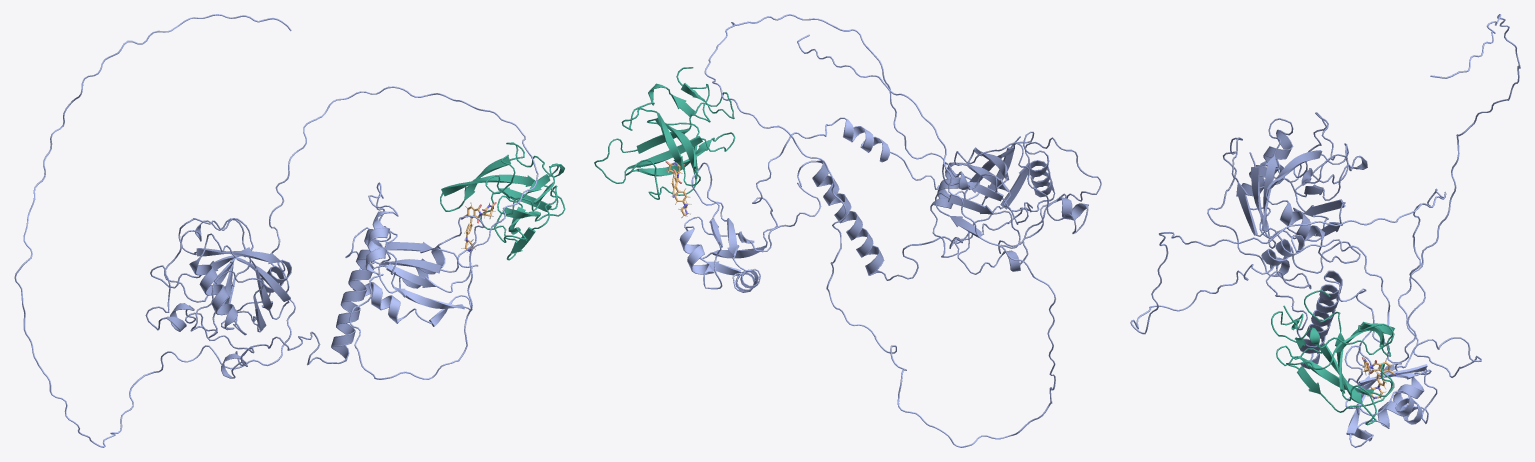
3 renders of one model, left to right at view 1: azimuth 30°, elevation 25°; view 2: azimuth 150°, elevation 25°; view 3: azimuth 270°, elevation 25°, orthographic. The views are drawn at different scales.
Visible parts, largest first — view 1: node-geom96, node-geom97; view 2: node-geom96, node-geom97; view 3: node-geom96, node-geom97.
Part boxes in pixels (box(x1,y1,x2,y2)): node-geom96: box(145, 142, 565, 378); node-geom97: box(14, 14, 538, 447); node-geom96: box(594, 67, 1101, 280); node-geom97: box(679, 14, 1055, 447); node-geom96: box(1207, 112, 1394, 425); node-geom97: box(1130, 14, 1520, 447).
Size of the model in its own units: 144 by 103 by 92.86.
